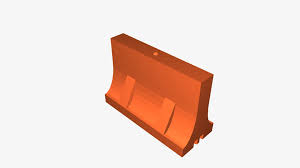barrier: (104, 33, 216, 156)
